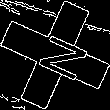N_NW: (24, 26, 86, 84)
